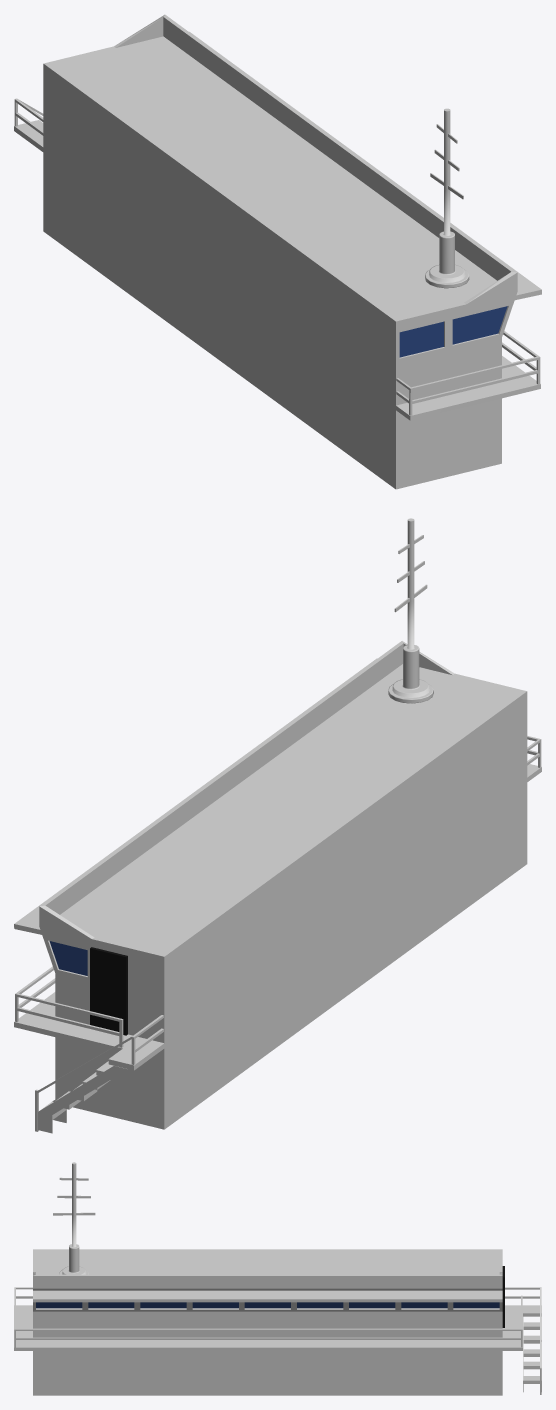
File: Mostik 3.fbx
The picture shows the model from 3 angles, top to bottom: view 1: azimuth 30°, elevation 25°; view 2: azimuth 150°, elevation 25°; view 3: azimuth 270°, elevation 25°; orthographic projection. The views are drawn at different scales.
Parts seen in each view (by area): view 1: Mostik 3; view 2: Mostik 3; view 3: Mostik 3.
Boxes of the visible parts, <box> form: Mostik 3: <box>14,14,541,489</box>; Mostik 3: <box>14,518,541,1133</box>; Mostik 3: <box>14,1162,541,1395</box>.
Bounding box in the file's own units: 163 × 363 × 765.
